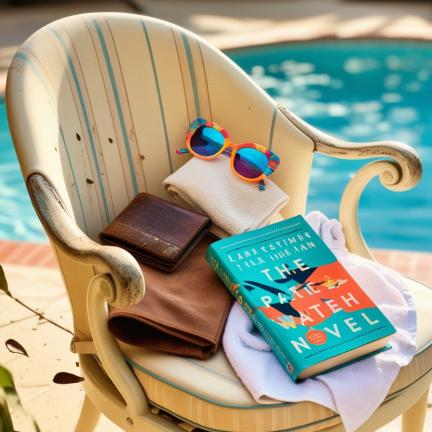occupied chair: (6, 14, 432, 432)
